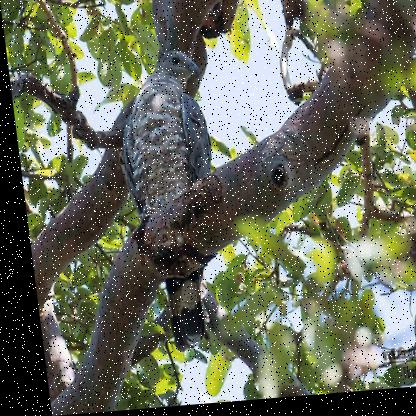Burung: (113, 50, 231, 361)
